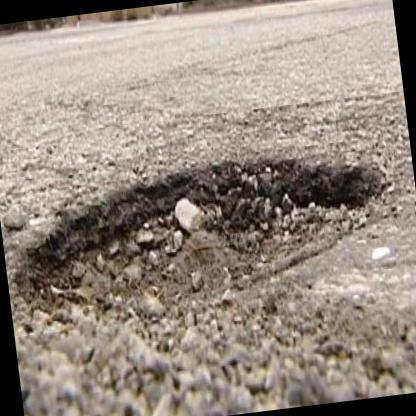pothole: (2, 140, 402, 364)
